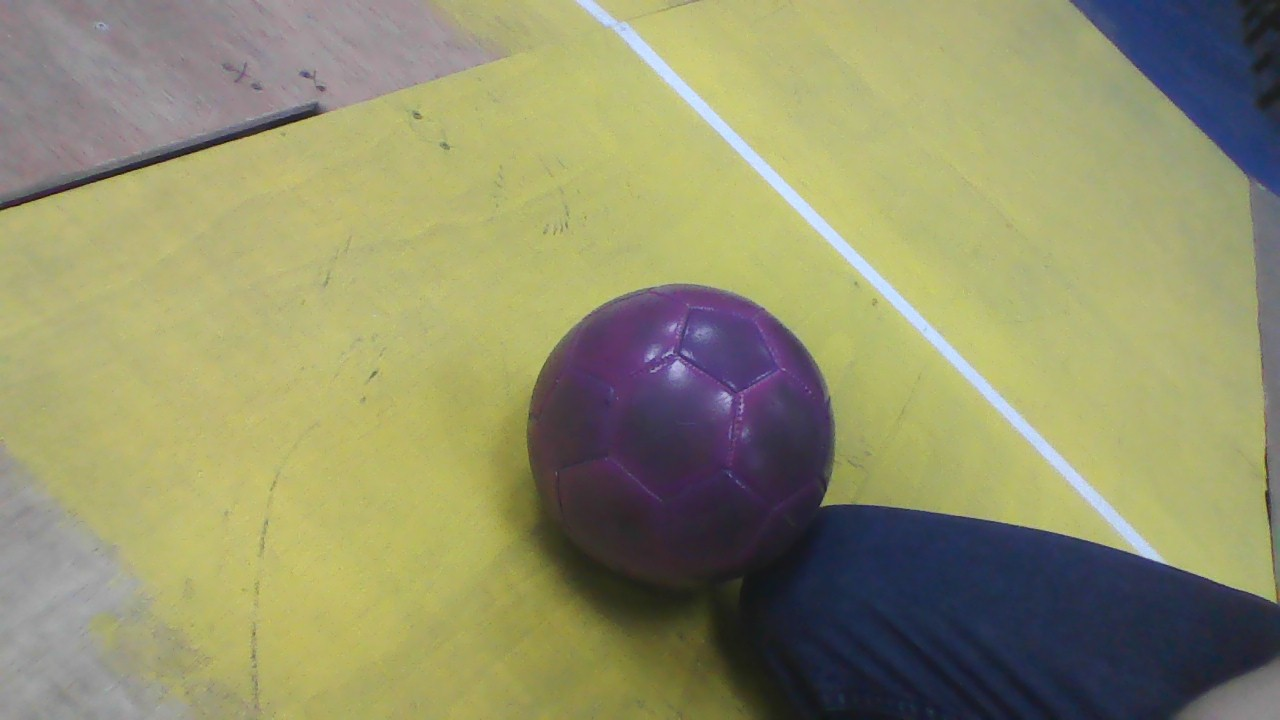Purple: (528, 283, 834, 588)
